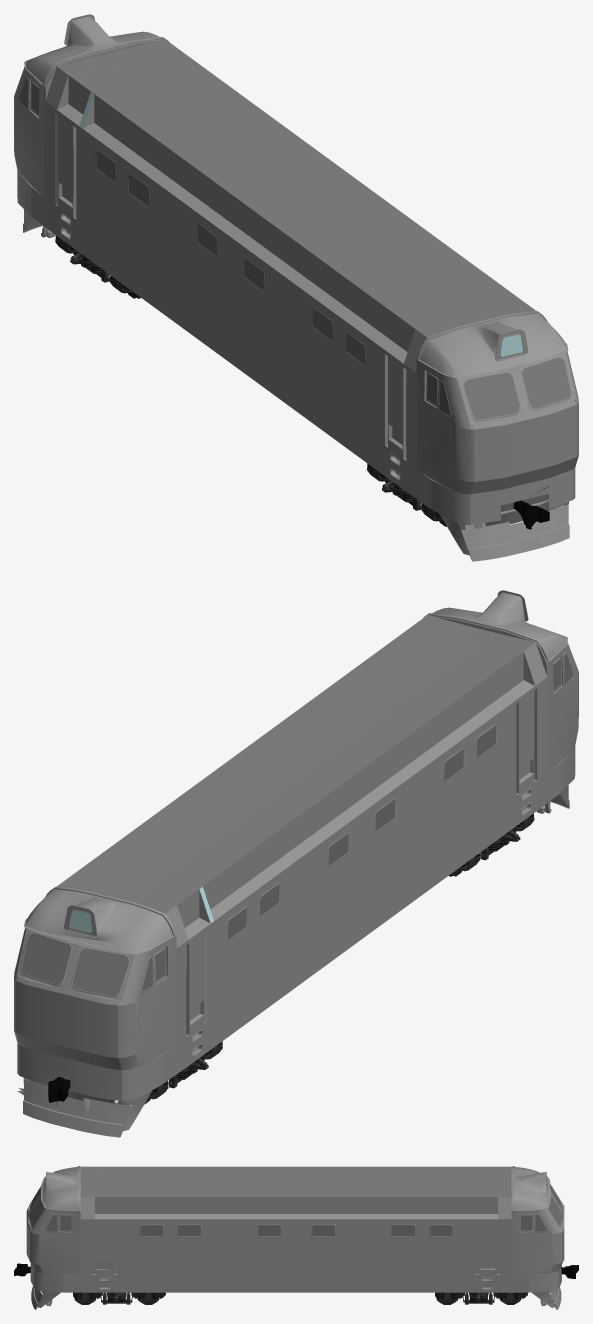
File: 重载货运车头20m优化_无车顶结构版本.fbx
The picture shows the model from 3 angles, top to bottom: view 1: azimuth 30°, elevation 25°; view 2: azimuth 150°, elevation 25°; view 3: azimuth 270°, elevation 25°; orthographic projection. The views are drawn at different scales.
Parts seen in each view (by area): view 1: 重载火车车外壳001, 重载火车车头_车顶盖001, 重载火车车头002, 车轮002, 车轮003; view 2: 重载火车车外壳001, 重载火车车头_车顶盖001, 重载火车车头002, 车轮003, 车轮002; view 3: 重载火车车外壳001, 重载火车车头_车顶盖001, 重载火车车头002, 车轮003, 车轮002.
Boxes of the visible parts, bbox=[...] form: 重载火车车外壳001: bbox=[14, 16, 578, 524]; 重载火车车头_车顶盖001: bbox=[45, 38, 535, 374]; 重载火车车头002: bbox=[23, 14, 569, 561]; 车轮002: bbox=[55, 235, 140, 298]; 车轮003: bbox=[367, 463, 446, 526]; 重载火车车外壳001: bbox=[14, 592, 578, 1100]; 重载火车车头_车顶盖001: bbox=[57, 614, 548, 950]; 重载火车车头002: bbox=[17, 590, 569, 1137]; 车轮003: bbox=[449, 813, 534, 876]; 车轮002: bbox=[144, 1041, 222, 1104]; 重载火车车外壳001: bbox=[26, 1166, 564, 1292]; 重载火车车头_车顶盖001: bbox=[80, 1166, 512, 1220]; 重载火车车头002: bbox=[14, 1171, 578, 1309]; 车轮003: bbox=[73, 1292, 165, 1304]; 车轮002: bbox=[435, 1292, 527, 1304].
Size of the model in its own units: 126 by 189 by 787.
